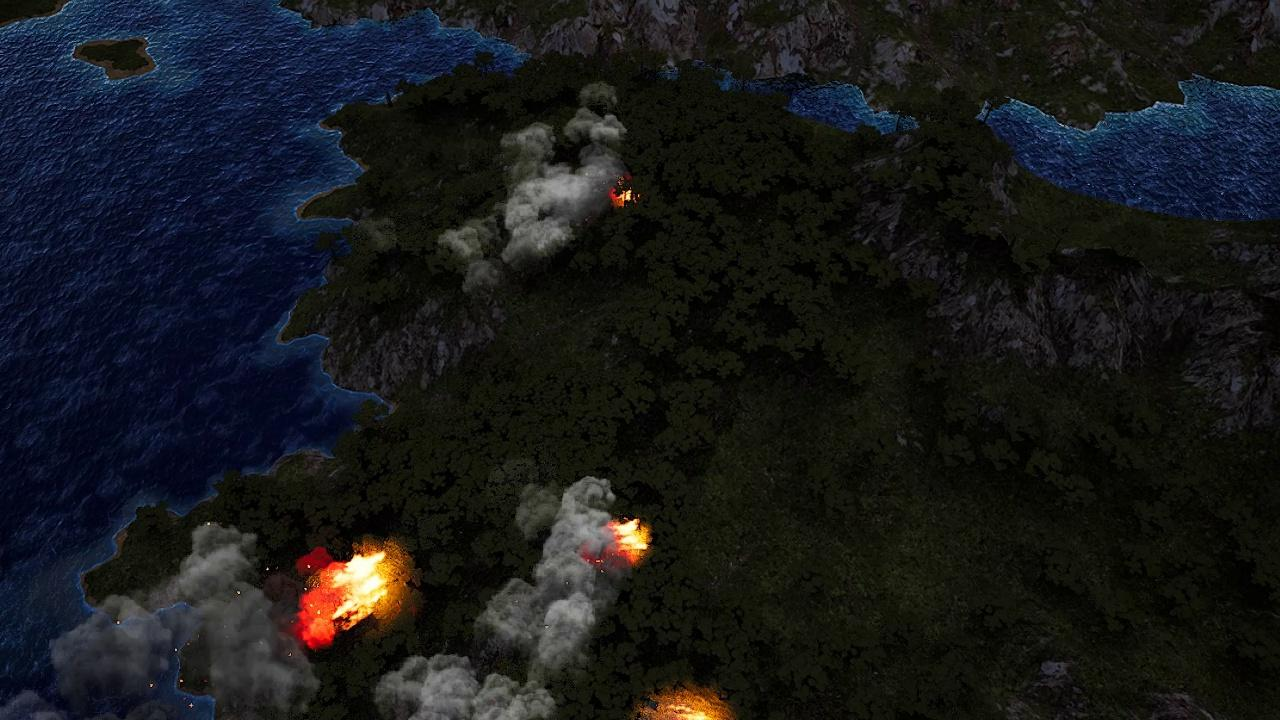fire: (296, 550, 397, 651), (610, 518, 653, 562), (658, 699, 727, 720), (611, 183, 639, 210)
smoke: (368, 469, 650, 719), (7, 520, 328, 718), (451, 80, 636, 296)
